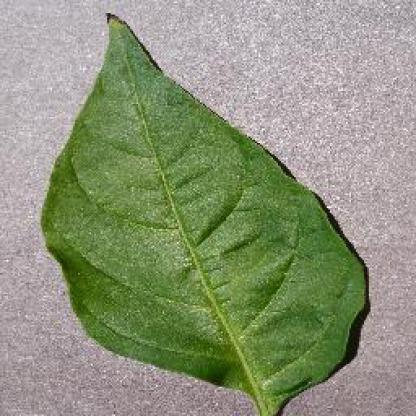good leaf: (44, 66, 358, 358)
